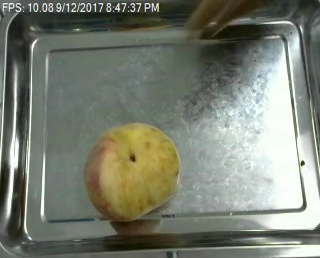Peach: (83, 121, 180, 222)
